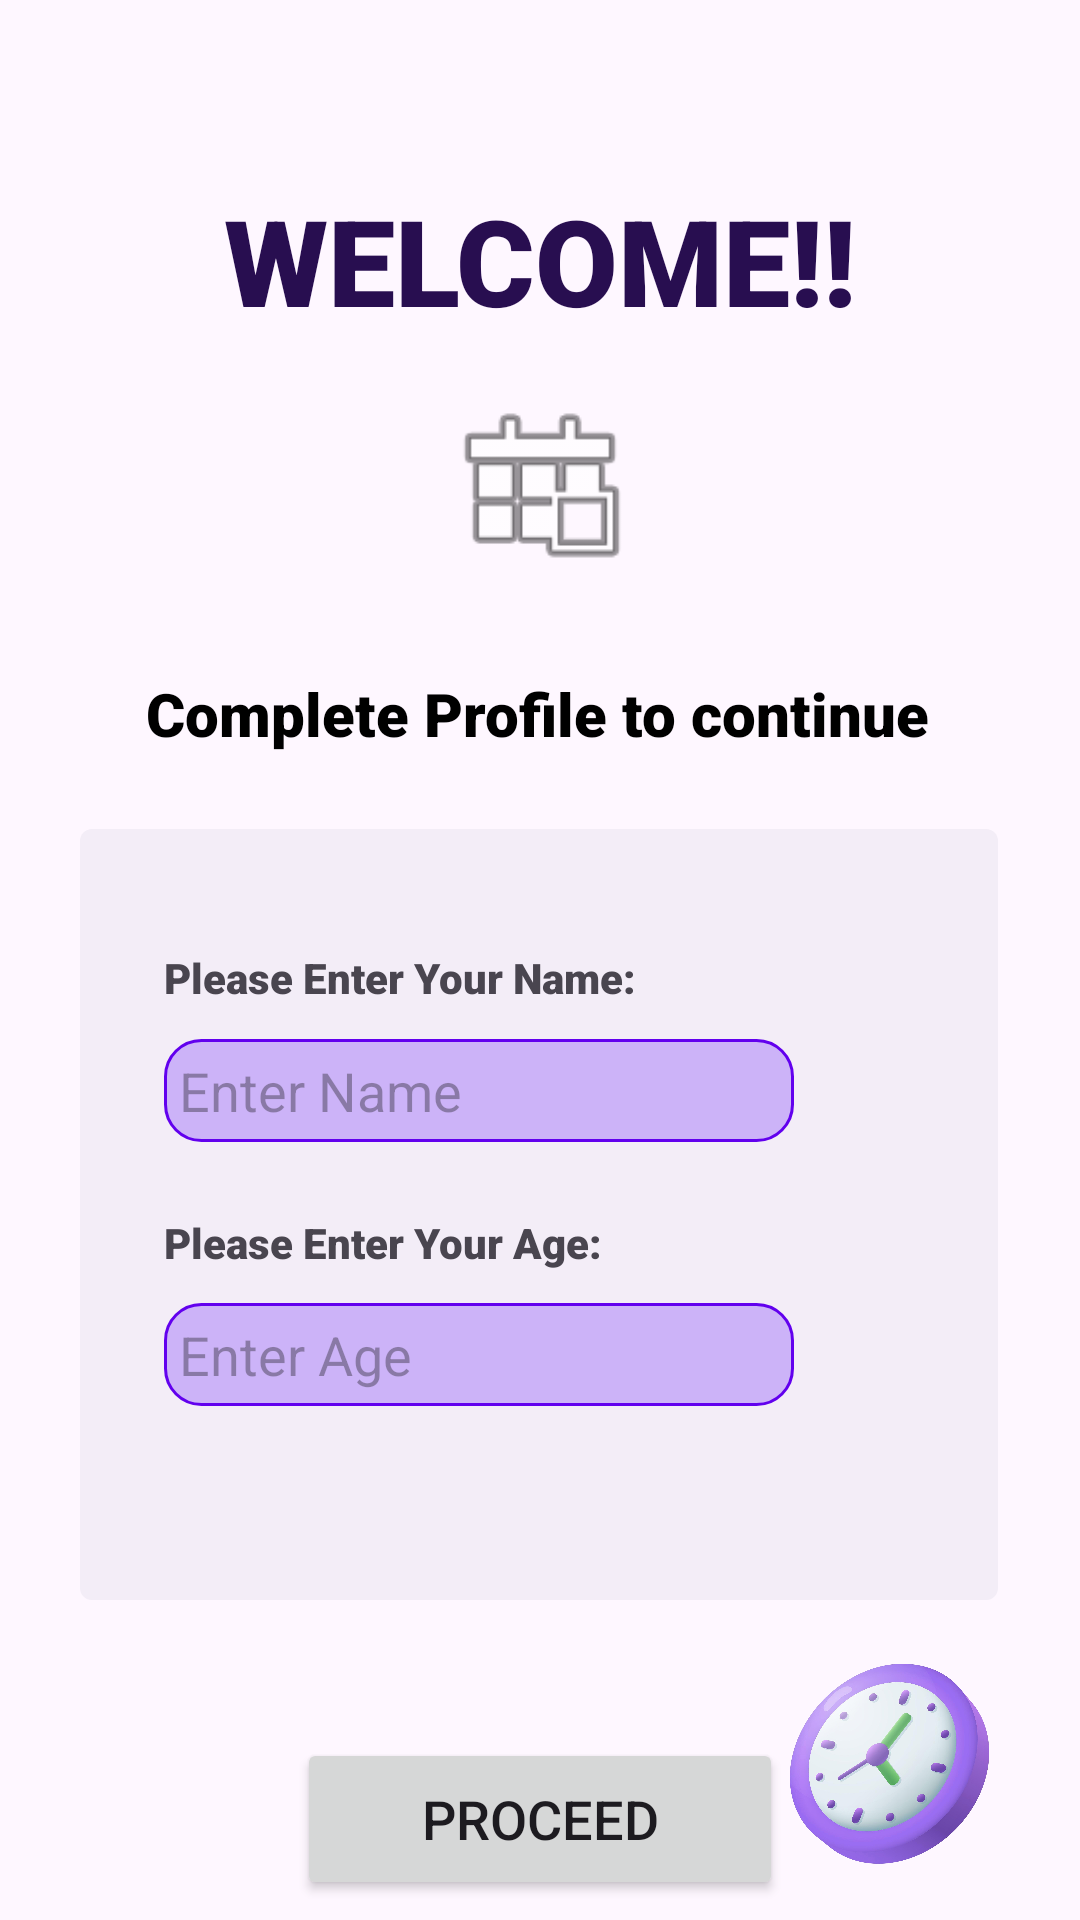

Icon bounding boxes for this 1080px×1920px phone screenshot, format (x1, y1, x2, y2):
clock: (790, 1664, 989, 1864)
today: (464, 413, 620, 558)
